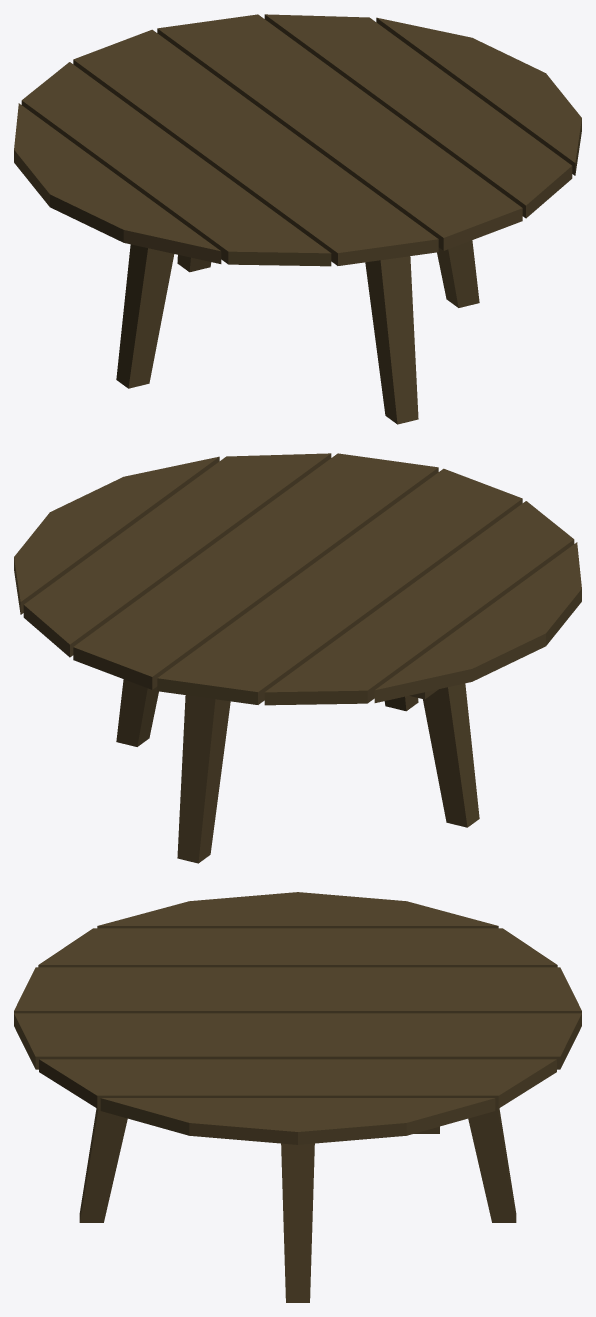
The model's file is fantasy_table_round.fbx.
3 views of the same model, one above another, from view 1: azimuth 30°, elevation 25°; view 2: azimuth 150°, elevation 25°; view 3: azimuth 270°, elevation 25° (orthographic).
Visible parts, largest first — view 1: Cylinder; view 2: Cylinder; view 3: Cylinder.
Boxes of the visible parts, left/top/right/bottom form: Cylinder: left=14, top=14, right=581, bottom=424; Cylinder: left=14, top=453, right=581, bottom=863; Cylinder: left=14, top=892, right=581, bottom=1302.
Size of the model in its own units: 200 by 80 by 200.
